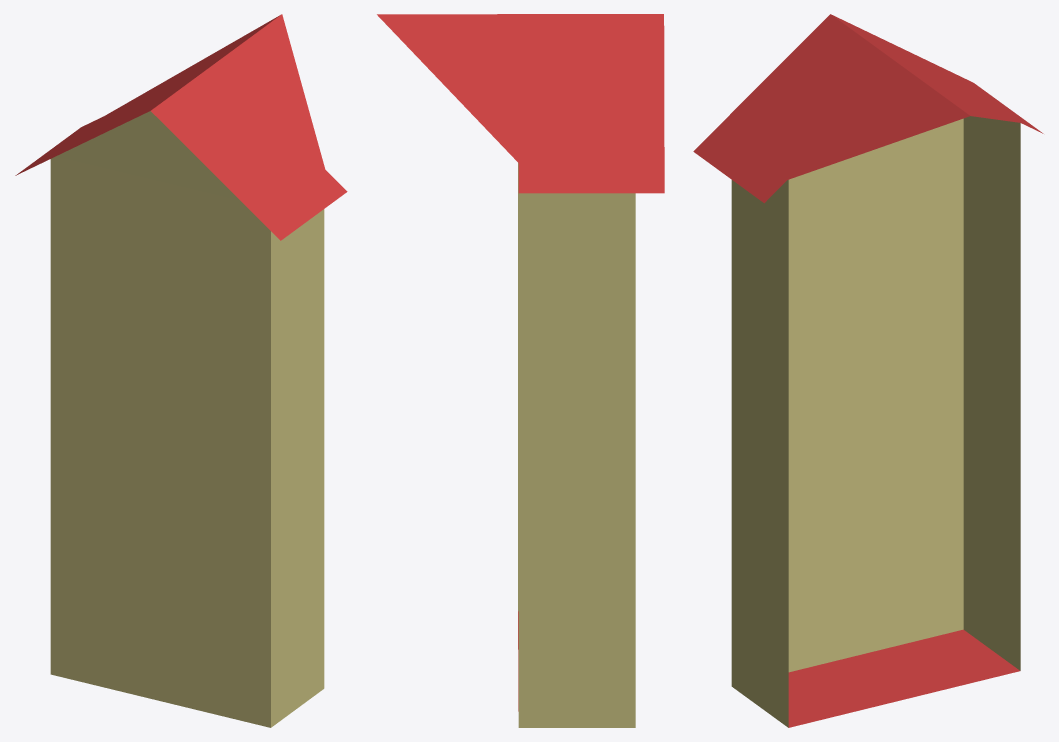
The picture shows the model from 3 angles, left to right: view 1: azimuth 30°, elevation 25°; view 2: azimuth 150°, elevation 25°; view 3: azimuth 270°, elevation 25°; orthographic projection. The views are drawn at different scales.
Bounding box in the file's own units: 5.79 × 6.27 × 12.49.
